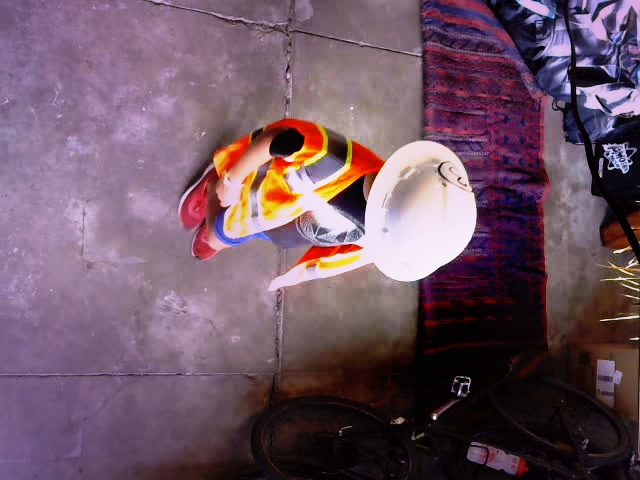three: (437, 158, 475, 192)
